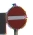No entry: (6, 5, 28, 29)
